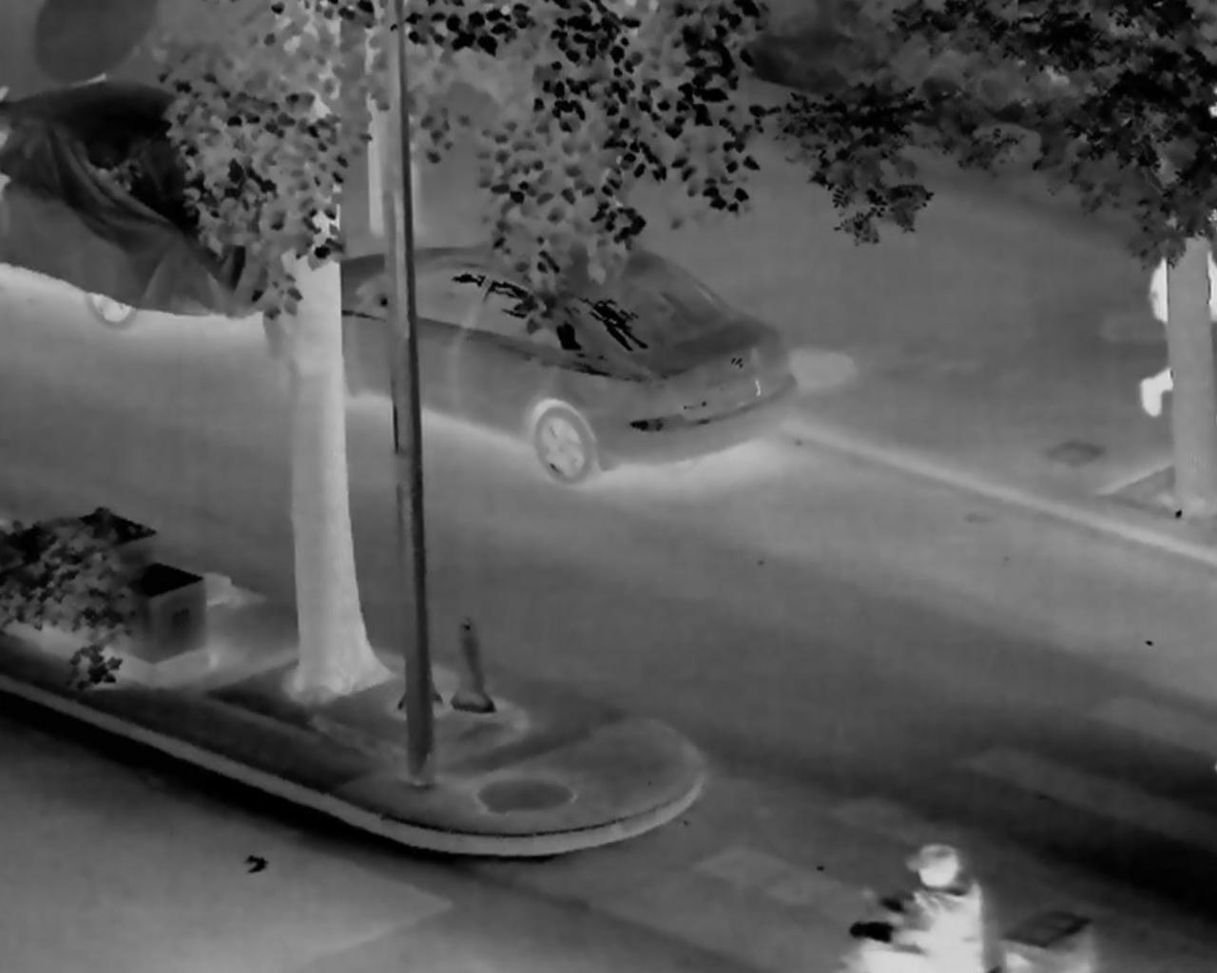person: (853, 849, 986, 973), (1141, 212, 1217, 414)
